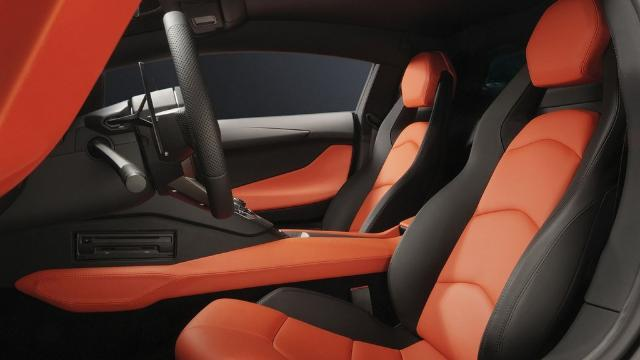Seatbelt: (370, 124, 378, 162)
